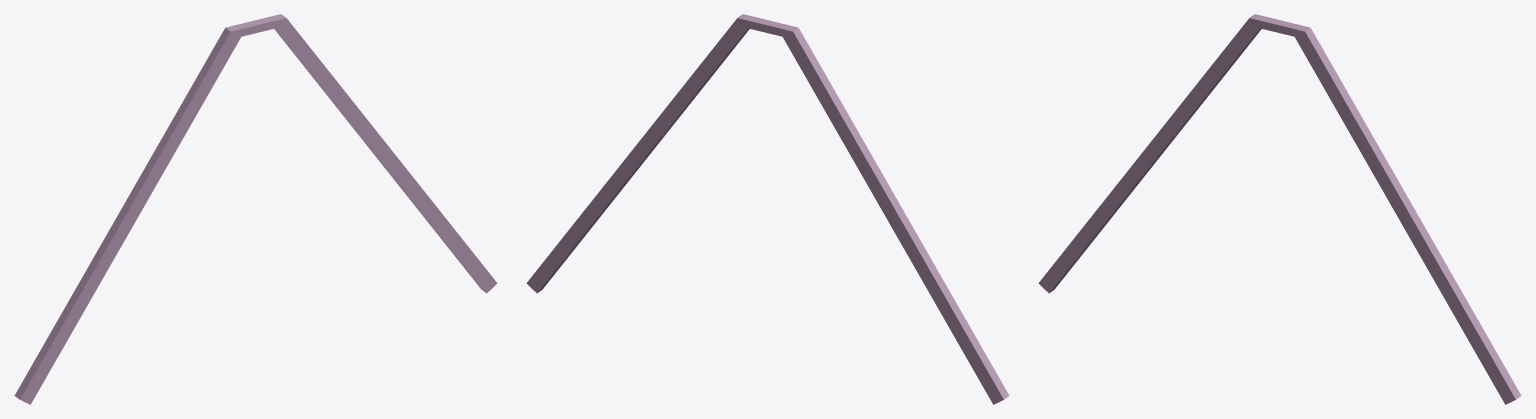
File: SP_House02_RoofBorder01.fbx
3 views of the same model, side by side, from view 1: azimuth 30°, elevation 25°; view 2: azimuth 150°, elevation 25°; view 3: azimuth 330°, elevation 25° (orthographic).
Parts seen in each view (by area): view 1: SP_House02_RoofBorder01; view 2: SP_House02_RoofBorder01; view 3: SP_House02_RoofBorder01.
Part boxes in pixels (x1=…): SP_House02_RoofBorder01: x1=14, y1=14, x2=497, y2=404; SP_House02_RoofBorder01: x1=526, y1=14, x2=1009, y2=404; SP_House02_RoofBorder01: x1=1038, y1=14, x2=1521, y2=404.
Bounding box in the file's own units: 9.62 × 6.24 × 0.1924.
